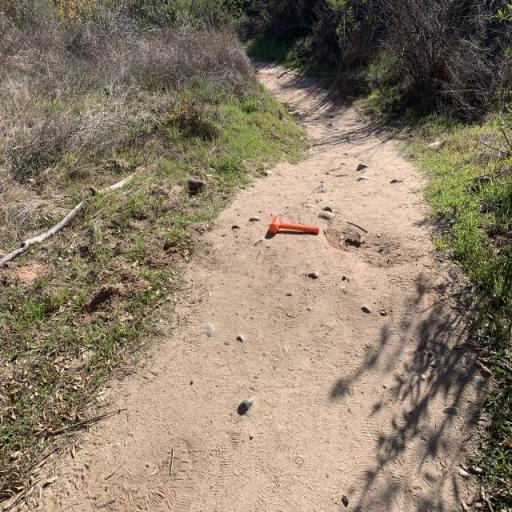mallet: (269, 215, 321, 236)
